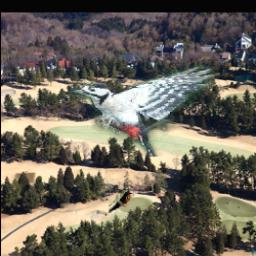Swallow: (108, 190, 133, 213)
Woodpecker: (69, 65, 220, 157)
